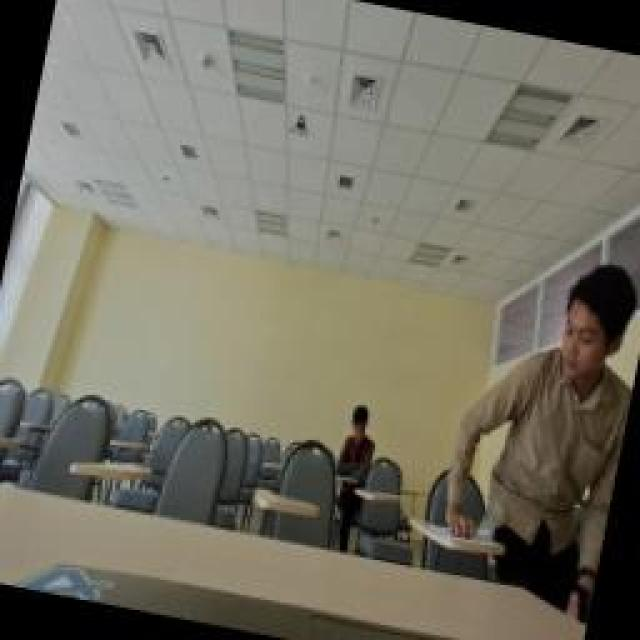study: (332, 403, 382, 485)
